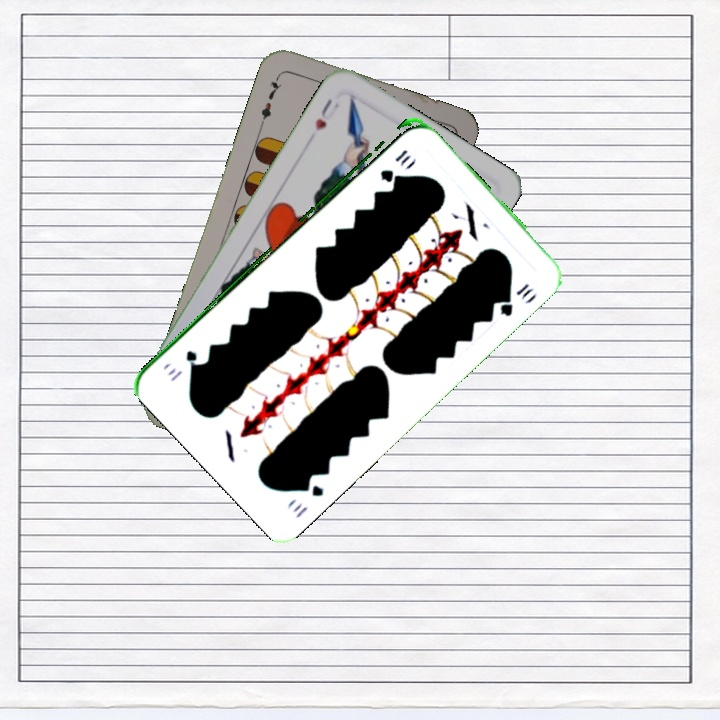E7: (256, 71, 285, 128)
G10: (288, 475, 326, 521), (375, 145, 413, 184)
HU: (311, 94, 342, 133)
